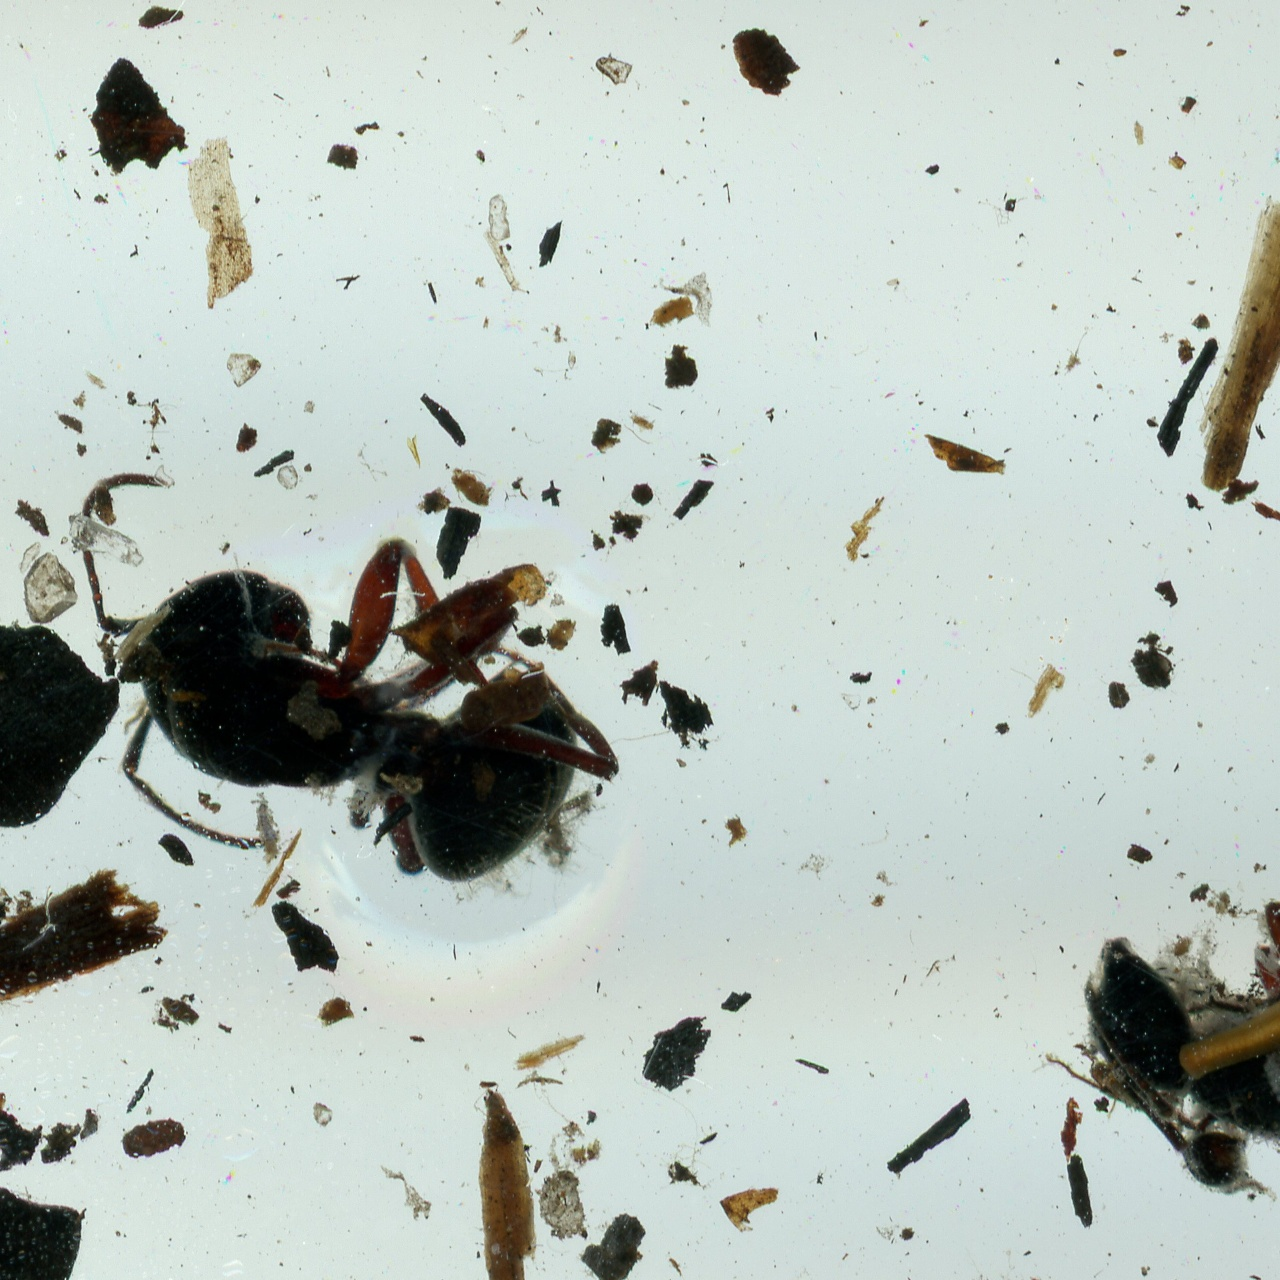arthropod: (75, 470, 629, 890), (1032, 843, 1280, 1280), (250, 789, 297, 865), (448, 462, 499, 510)
